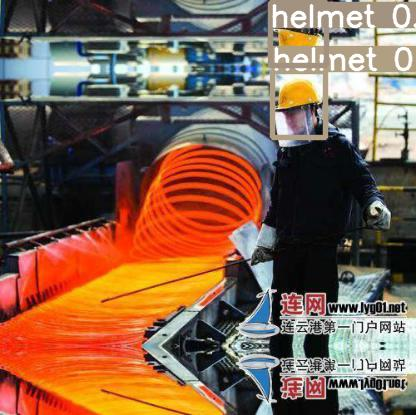helmet: (270, 2, 326, 65), (272, 71, 325, 137)
